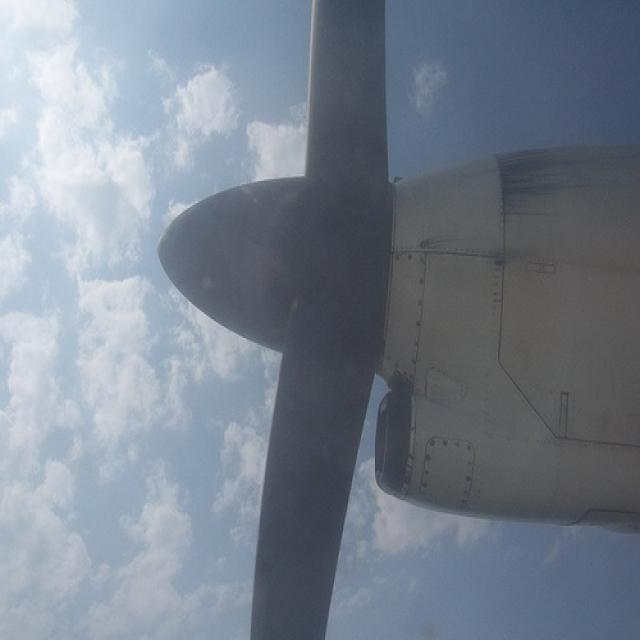aeroplane: (156, 2, 639, 638)
